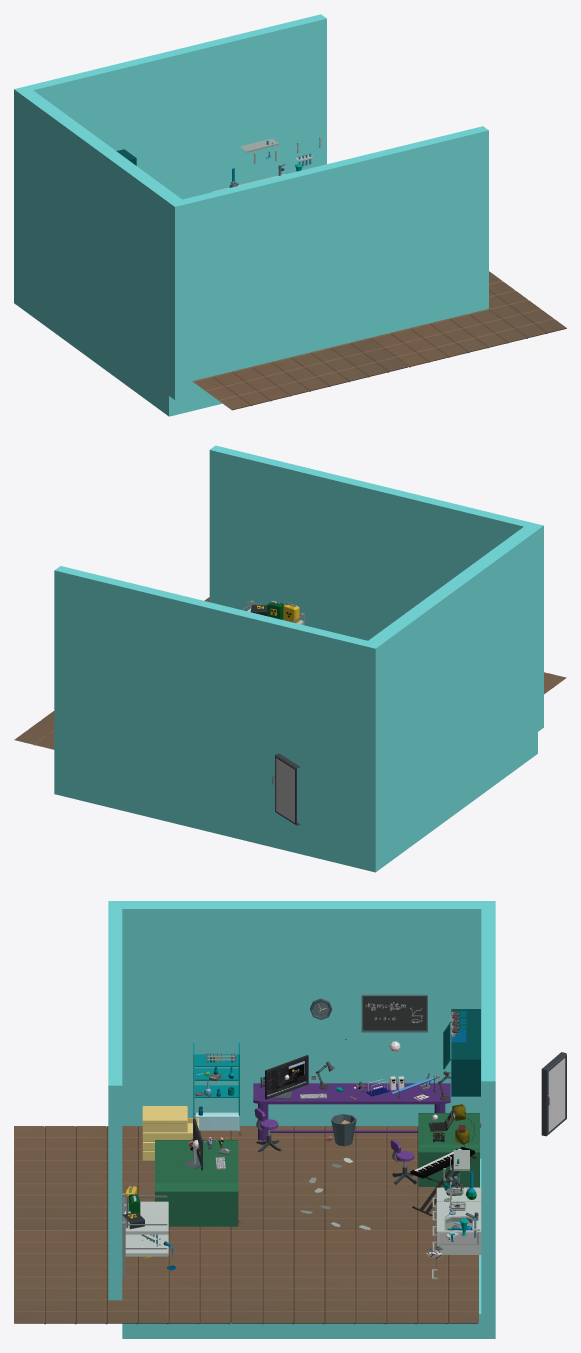
Rendered from laboratorio-targets.glb.
3 views of the same model, one above another, from view 1: azimuth 30°, elevation 25°; view 2: azimuth 150°, elevation 25°; view 3: azimuth 270°, elevation 25° (orthographic). The views are drawn at different scales.
Visible parts, largest first — view 1: floor_and_walls, tile.001; view 2: floor_and_walls, tile.001, door.001; view 3: floor_and_walls, tile.001, table1.001, cane, table1, frame .001, shelf, legs1, cane2, bottom_shelf1, PC, bottom_shelf2 (+5 smaller).
Boxes of the visible parts, <box> form: floor_and_walls: <box>14,14,488,416</box>; tile.001: <box>192,271,566,410</box>; floor_and_walls: <box>54,445,543,872</box>; tile.001: <box>14,597,566,749</box>; door.001: <box>276,758,294,822</box>; floor_and_walls: <box>108,901,495,1338</box>; tile.001: <box>14,1126,478,1324</box>; table1.001: <box>155,1140,238,1226</box>; cane: <box>253,1083,450,1140</box>; table1: <box>418,1113,479,1187</box>; frame .001: <box>361,994,427,1032</box>; shelf: <box>443,1009,480,1096</box>; legs1: <box>193,1043,241,1136</box>; cane2: <box>122,1193,168,1277</box>; bottom_shelf1: <box>142,1106,198,1160</box>; PC: <box>265,1055,308,1099</box>; bottom_shelf2: <box>436,1215,481,1269</box>.
Size of what is drawn, in the model's own units: 3.81 by 2.21 by 4.3.
55 materials, 7 textured.
